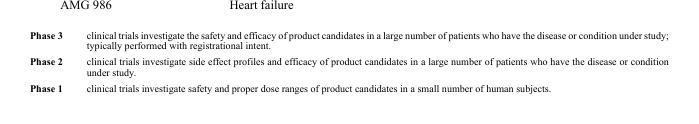table: (28, 28, 667, 93)
table column: (73, 28, 667, 93), (28, 28, 73, 93)
table row: (28, 52, 667, 79), (28, 28, 667, 52), (28, 79, 667, 93)
